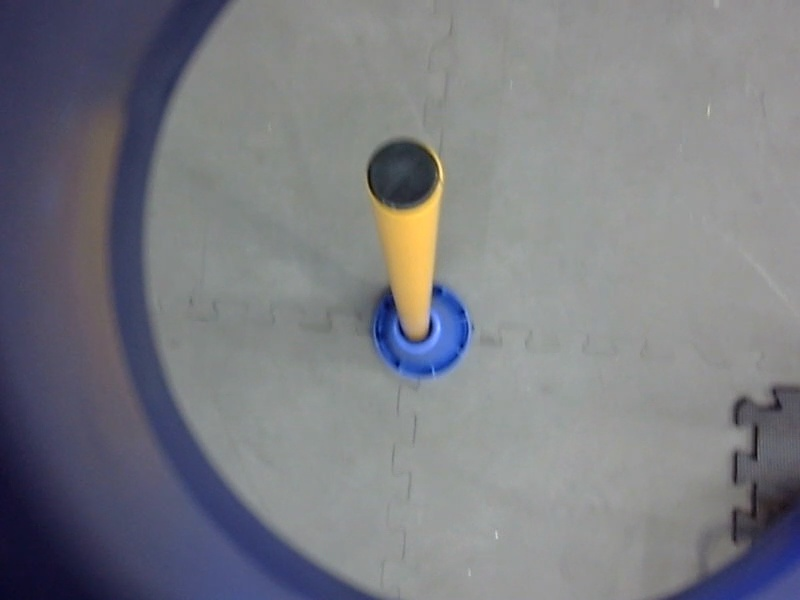tip: (357, 133, 450, 221)
